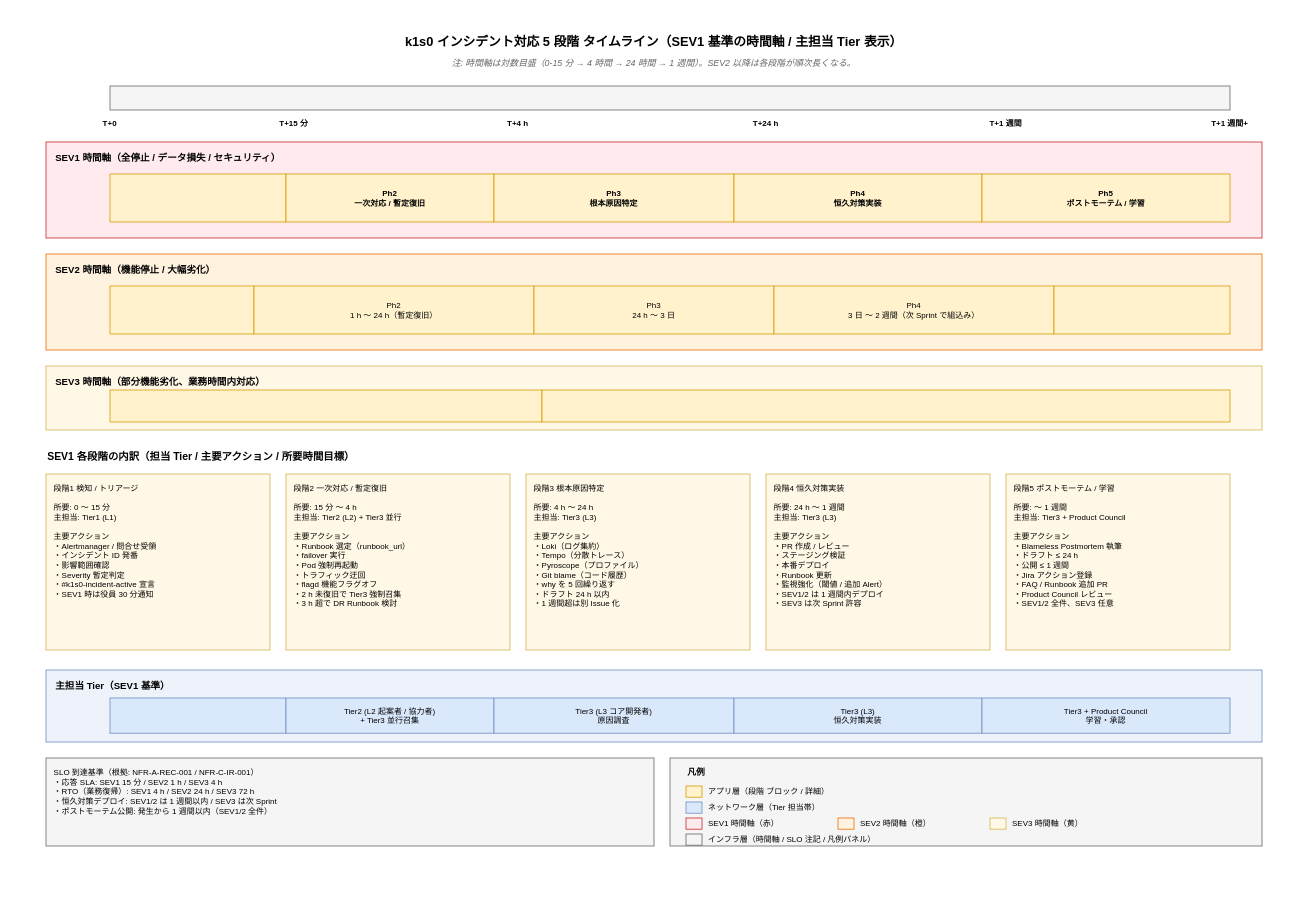
Image size: 1307x907. Some labels were removed from this diagram. Each missing label, with the centre of its shape:
"Ph1 〜1 h" goes at point 181,309.
"Ph1 検知 / トリアージ" goes at point 197,197.
"Ph1-2 検知〜暫定復旧（〜72 h、業務時間内）" goes at point 325,405.
"Ph3-5 根本原因〜PM（次 Sprint 内、必要時のみ）" goes at point 885,405.
"Ph5 PM（対象、公開 ≤ 1 週）" goes at point 1141,309.
"Tier1 (L1 受付)" goes at point 197,715.
"時間軸（対数目盛）" goes at point 669,97.
